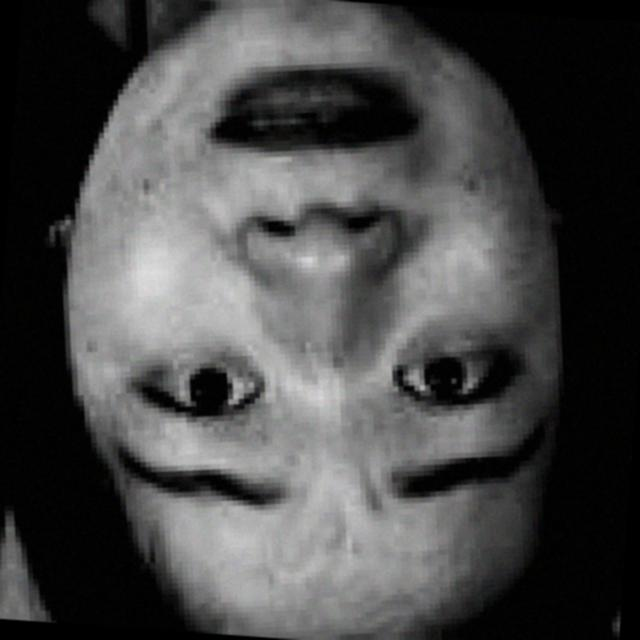fear: (47, 0, 577, 629)
